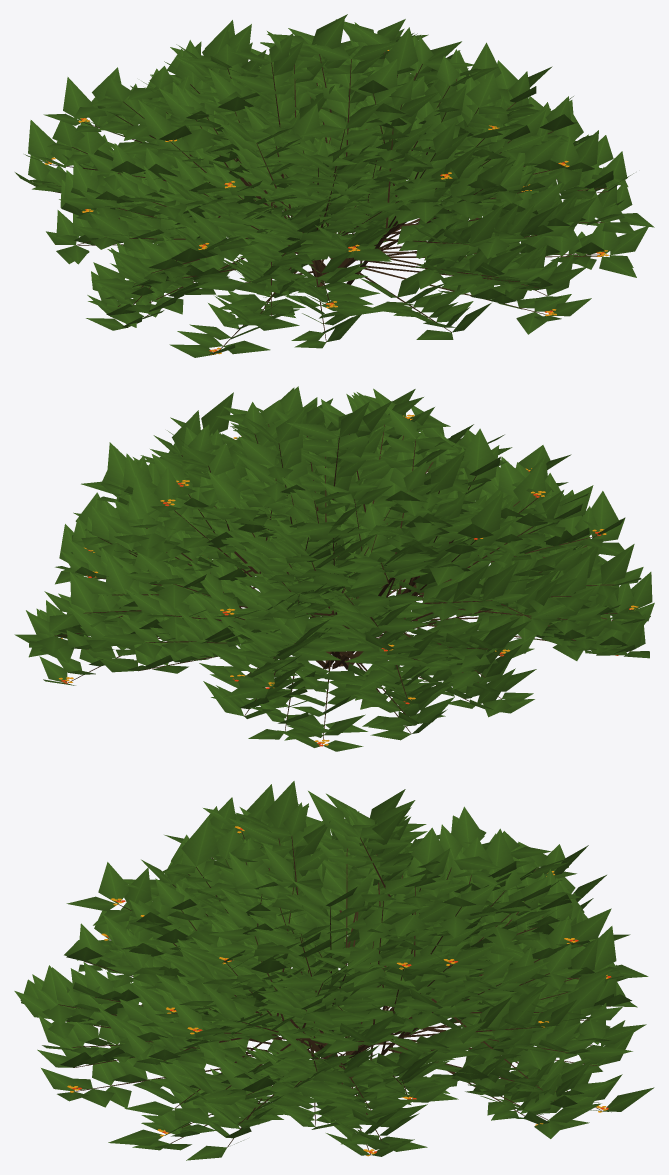
File: Lantana_LOD0.fbx
3 views of the same model, one above another, from view 1: azimuth 30°, elevation 25°; view 2: azimuth 150°, elevation 25°; view 3: azimuth 270°, elevation 25° (orthographic). The views are drawn at different scales.
Visible parts, largest first — view 1: Leaves_Lantana_LOD0; view 2: Leaves_Lantana_LOD0; view 3: Leaves_Lantana_LOD0.
Boxes of the visible parts, box(x1,y1,x2,y2) form: Leaves_Lantana_LOD0: box(15, 14, 654, 357); Leaves_Lantana_LOD0: box(14, 386, 654, 751); Leaves_Lantana_LOD0: box(14, 781, 654, 1160).
Bounding box in the file's own units: 205 × 83.99 × 203.
